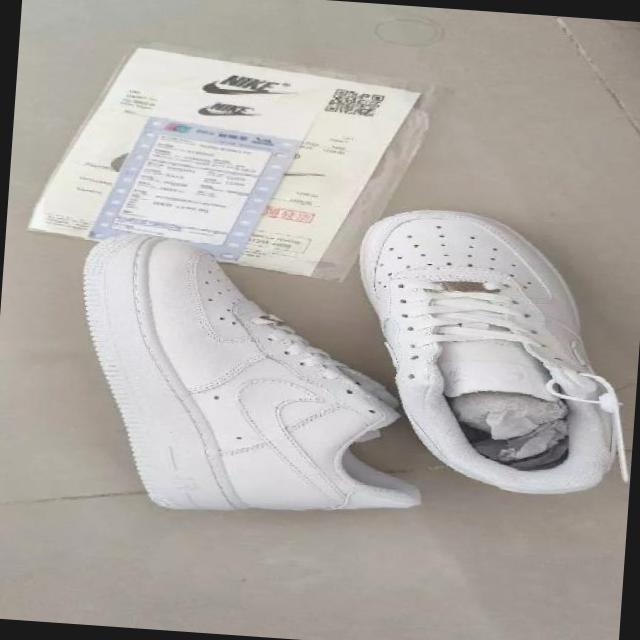nike_original_airforce: (22, 226, 456, 532), (332, 202, 638, 500)
